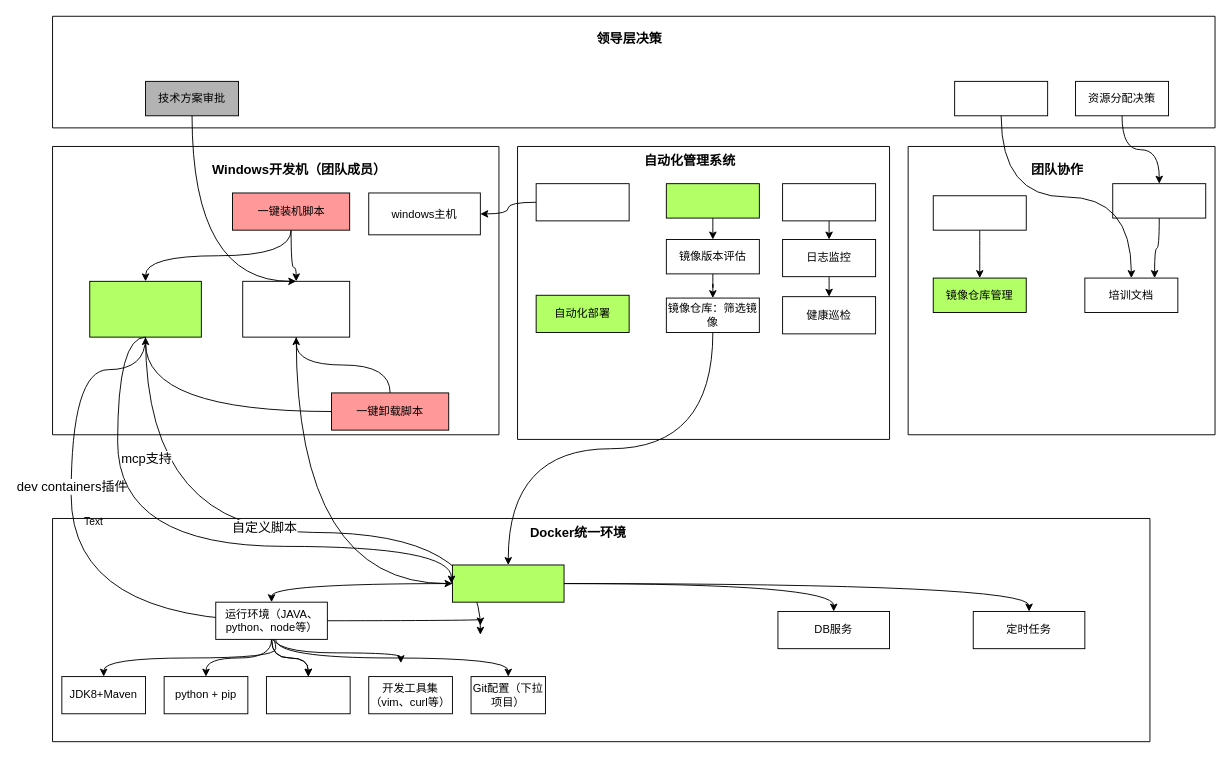
The diagram is 1231 pixels wide and 758 high, and some of its shapes have lost their labels. Here are the shapes that lost their labels. From the top down, the centre of each, then its label:
At [1001,98]: "实施时间安排".
At [582,202]: "消息下发".
At [712,200]: "AI agent".
At [829,202]: "环境健康检查".
At [979,212]: "版本控制".
At [1159,200]: "技术支持".
At [145,308]: "cusor编辑器".
At [296,308]: "Docker Desktop".
At [508,583]: "容器组".
At [308,695]: "Node.js + npm".
